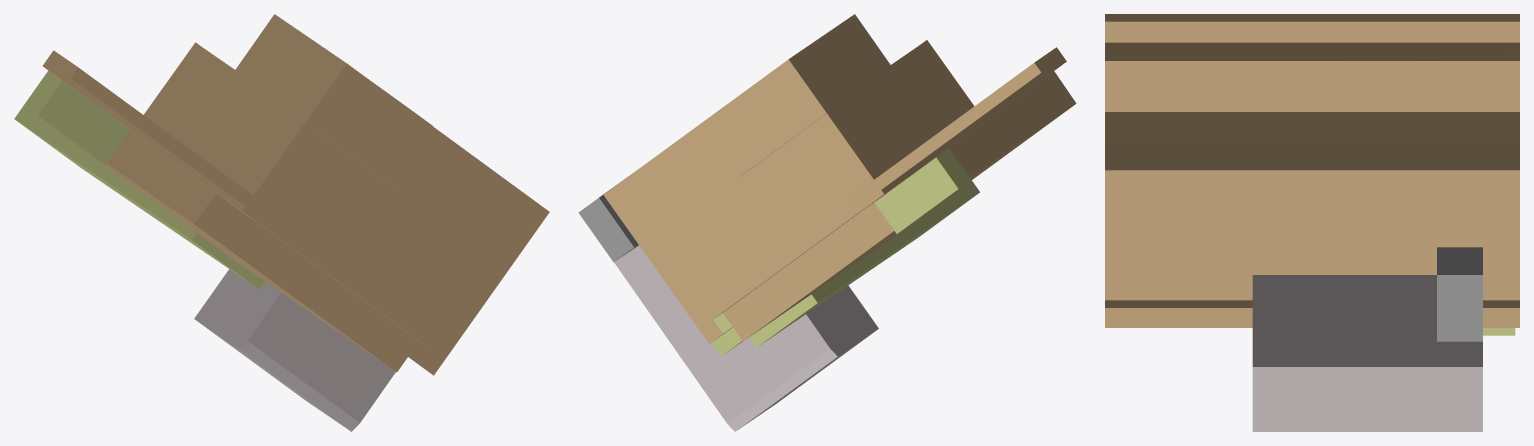
3 views of the same model, side by side, from view 1: azimuth 30°, elevation 25°; view 2: azimuth 150°, elevation 25°; view 3: azimuth 270°, elevation 25° (orthographic). The views are drawn at different scales.
Parts seen in each view (by area): view 1: 0_1_2_0_3_3_1_2_3_1; view 2: 0_1_2_0_3_3_1_2_3_1; view 3: 0_1_2_0_3_3_1_2_3_1.
Boxes of the visible parts, box(x1,y1,x2,y2) form: 0_1_2_0_3_3_1_2_3_1: box(14, 14, 549, 431); 0_1_2_0_3_3_1_2_3_1: box(578, 14, 1076, 431); 0_1_2_0_3_3_1_2_3_1: box(1105, 14, 1519, 431).
Size of the model in its own units: 29.55 by 24.02 by 27.
